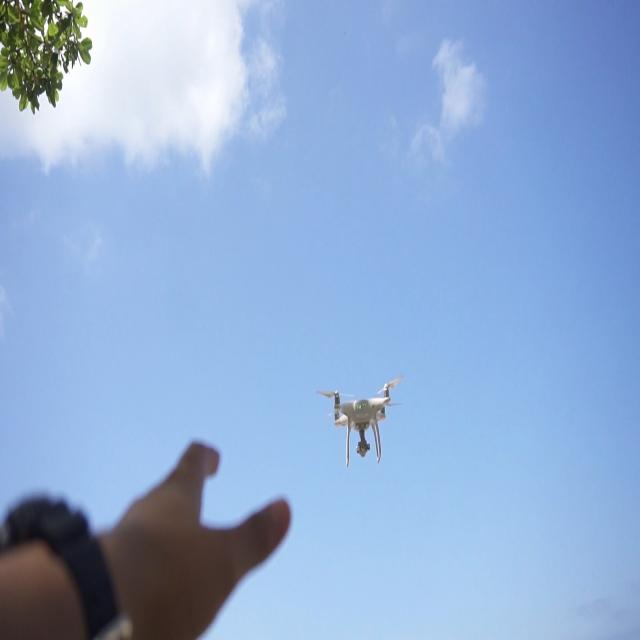Drone: (329, 378, 398, 468)
